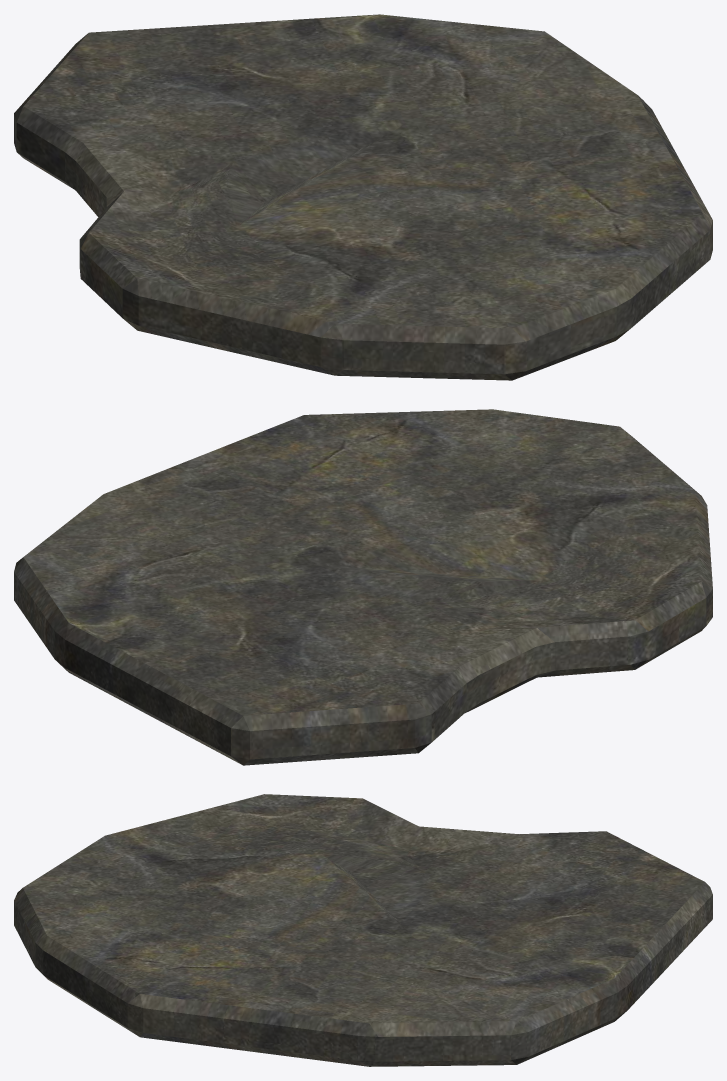
File: stonetablet.fbx
3 renders of one model, top to bottom at view 1: azimuth 30°, elevation 25°; view 2: azimuth 150°, elevation 25°; view 3: azimuth 270°, elevation 25°, orthographic. The views are drawn at different scales.
Parts seen in each view (by area): view 1: Plane; view 2: Plane; view 3: Plane.
Boxes of the visible parts, left/top/right/bottom form: Plane: left=14, top=14, right=712, bottom=380; Plane: left=14, top=409, right=712, bottom=765; Plane: left=14, top=794, right=712, bottom=1066.
Size of the model in its own units: 146 by 12.47 by 182.
1 material, 1 textured.
